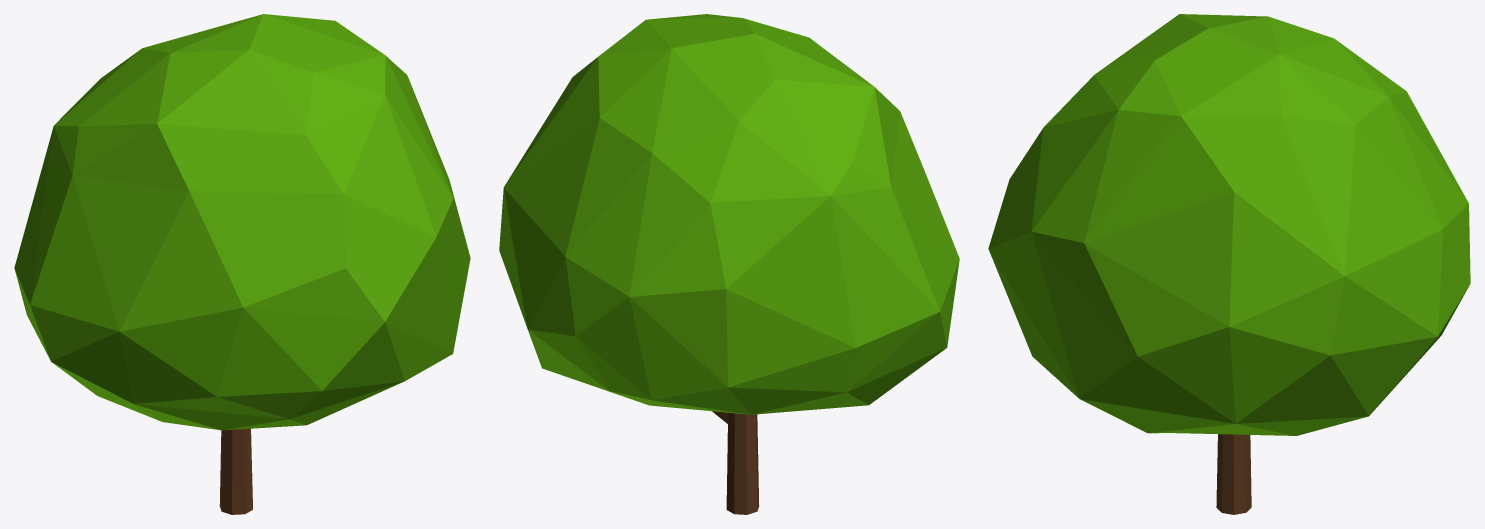
File: ShrubTreeA.fbx
3 renders of one model, left to right at view 1: azimuth 30°, elevation 25°; view 2: azimuth 150°, elevation 25°; view 3: azimuth 270°, elevation 25°, orthographic. The views are drawn at different scales.
Visible parts, largest first — view 1: ShrubTreeA_geo; view 2: ShrubTreeA_geo; view 3: ShrubTreeA_geo.
Part boxes in pixels (box(x1,y1,x2,y2)): ShrubTreeA_geo: box(14, 14, 470, 514); ShrubTreeA_geo: box(499, 14, 959, 514); ShrubTreeA_geo: box(988, 14, 1470, 514).
Bounding box in the file's own units: 323 × 349 × 319.
